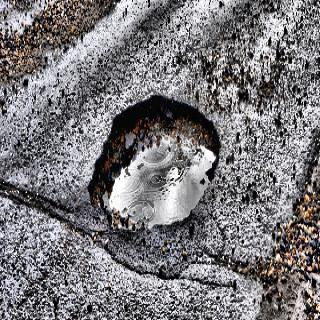pothole: (93, 86, 220, 246)
